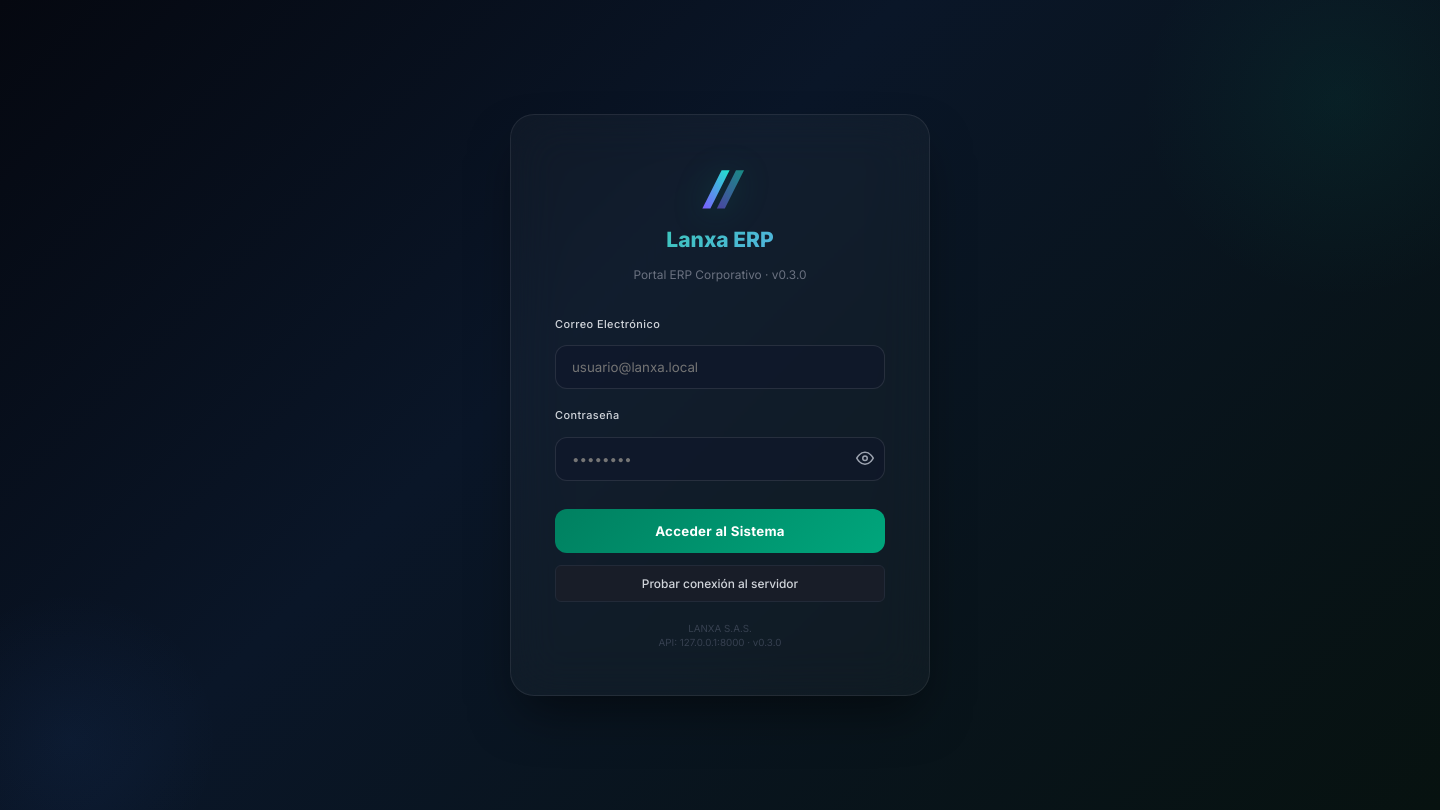
Test: LoginView › rate limit 429: muestra mensaje de demasiados intentos
Step 1. Type "x@test.com" into the field with placeholder "usuario@lanxa.local" → (720, 367), box [555,345,885,389]
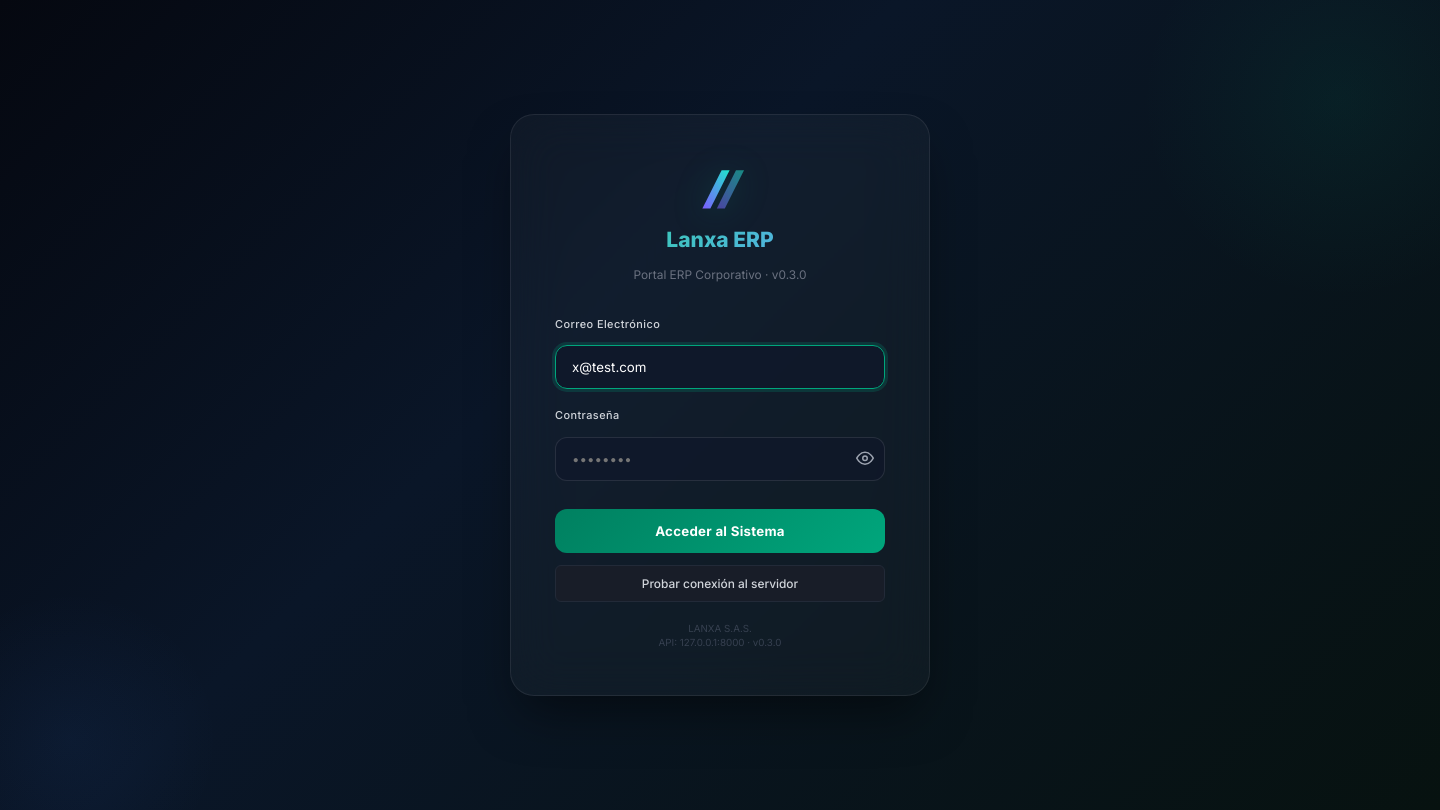
Step 2. Type "clave123" into the password field with placeholder "••••••••" → (720, 459), box [555,437,885,481]
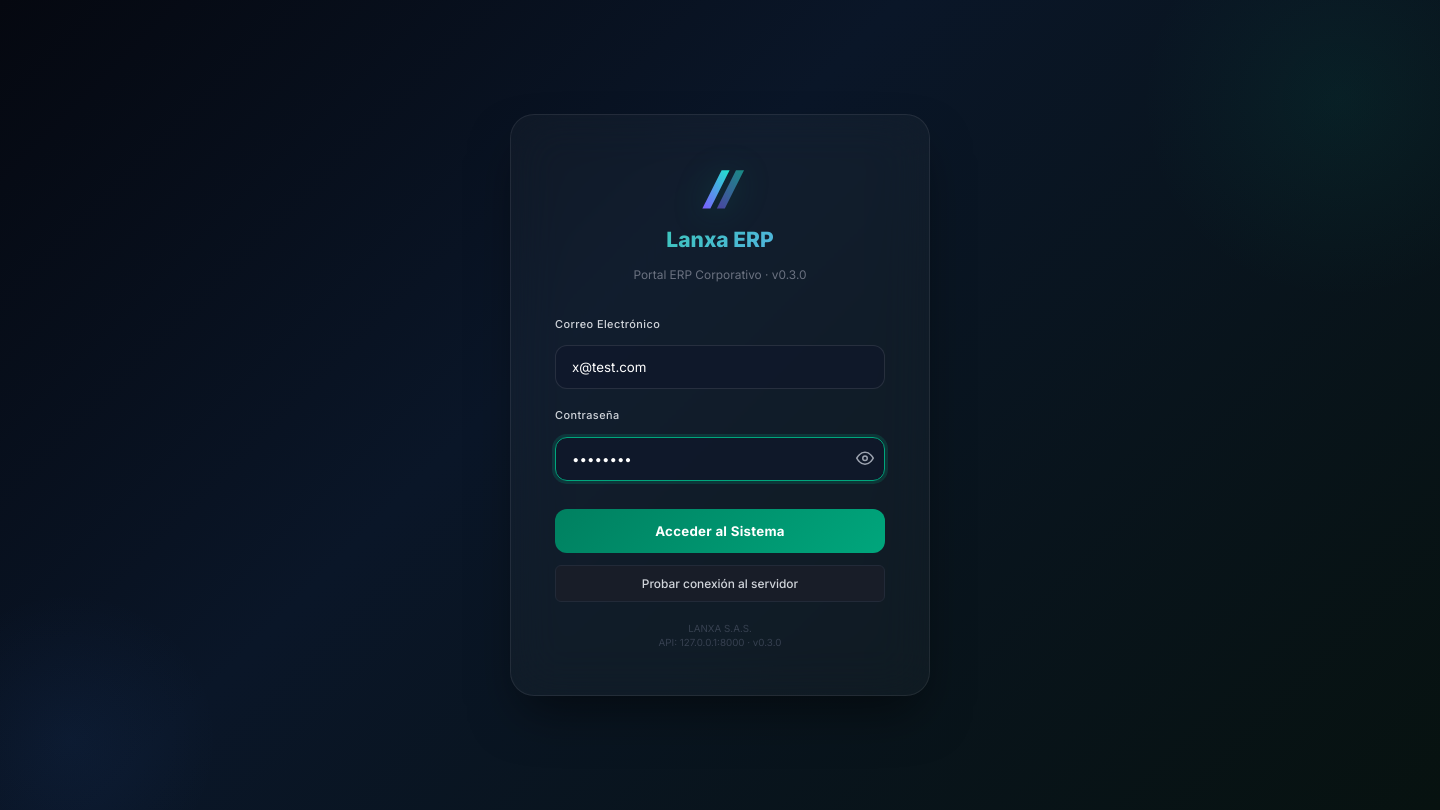
Step 3. Click the button "Acceder al Sistema" → (720, 531), box [555,509,885,553]
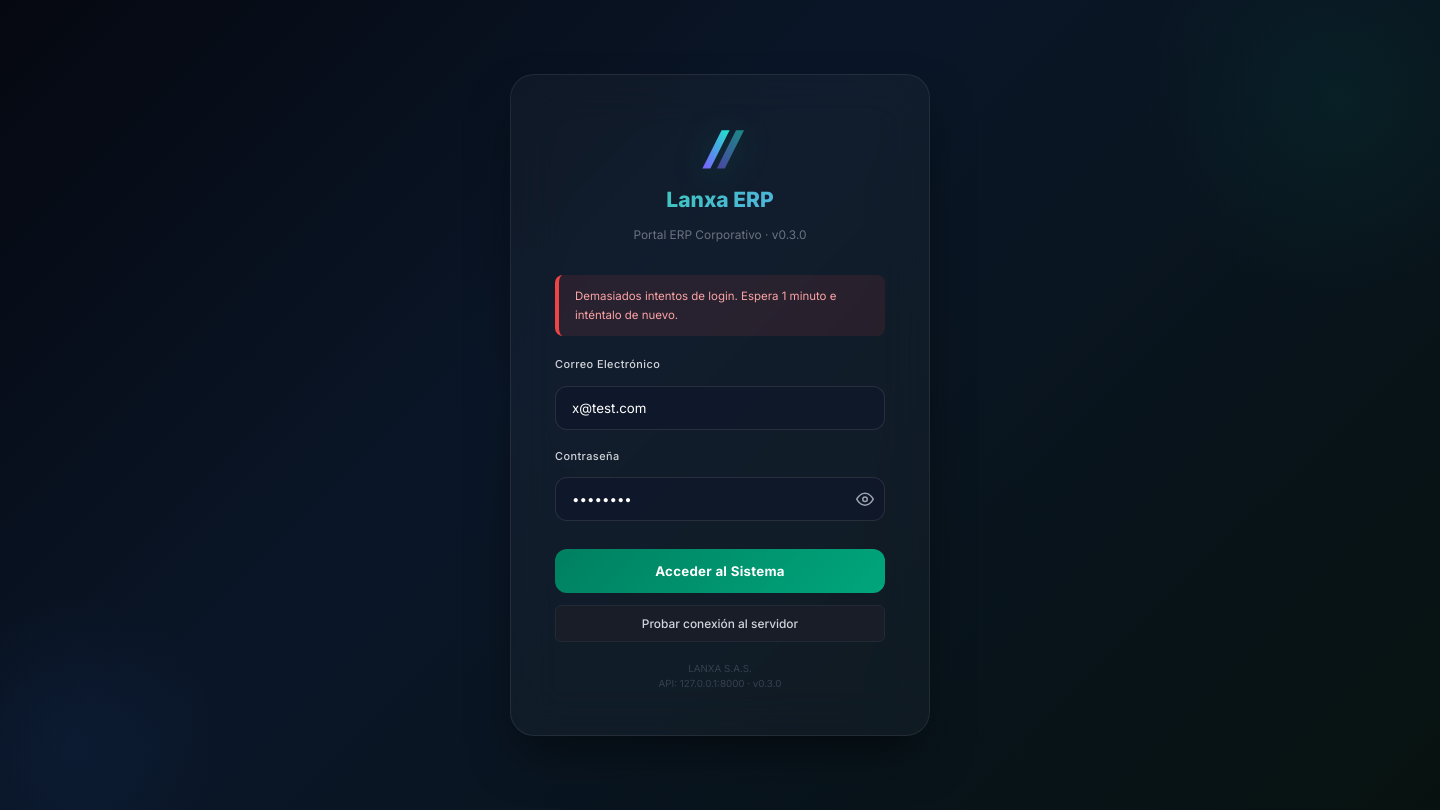
Now the text "Demasiados intentos de login" is shown, box [575,289,836,322]
